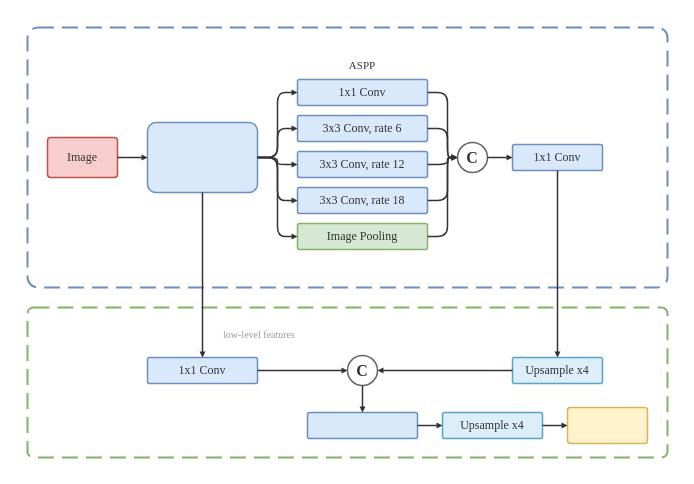
The diagram is 694 pixels wide and 484 high, and some of its shapes have lost their labels. Each missing label, with the box of its shape:
3x3 Conv: (306, 411, 418, 439)
DCNN (atrous conv): (146, 121, 258, 193)
Decoder: (26, 306, 668, 458)
Encoder: (26, 26, 668, 288)
Prediction: (566, 406, 648, 444)
